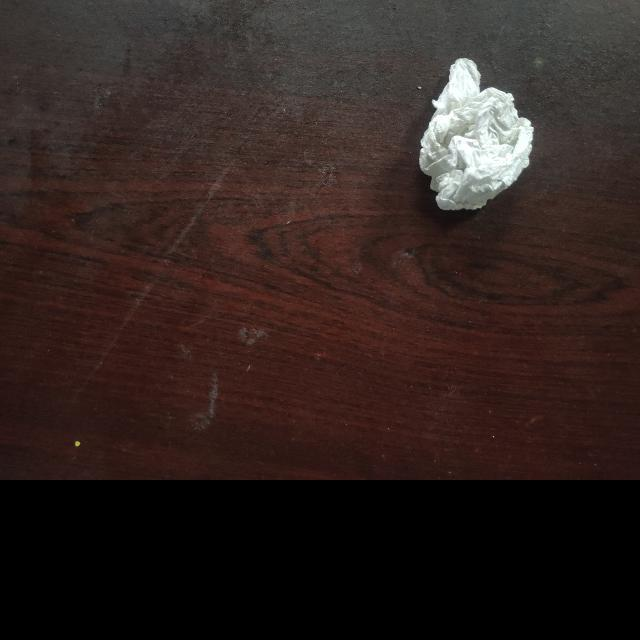kitchen paper: (412, 54, 538, 218)
